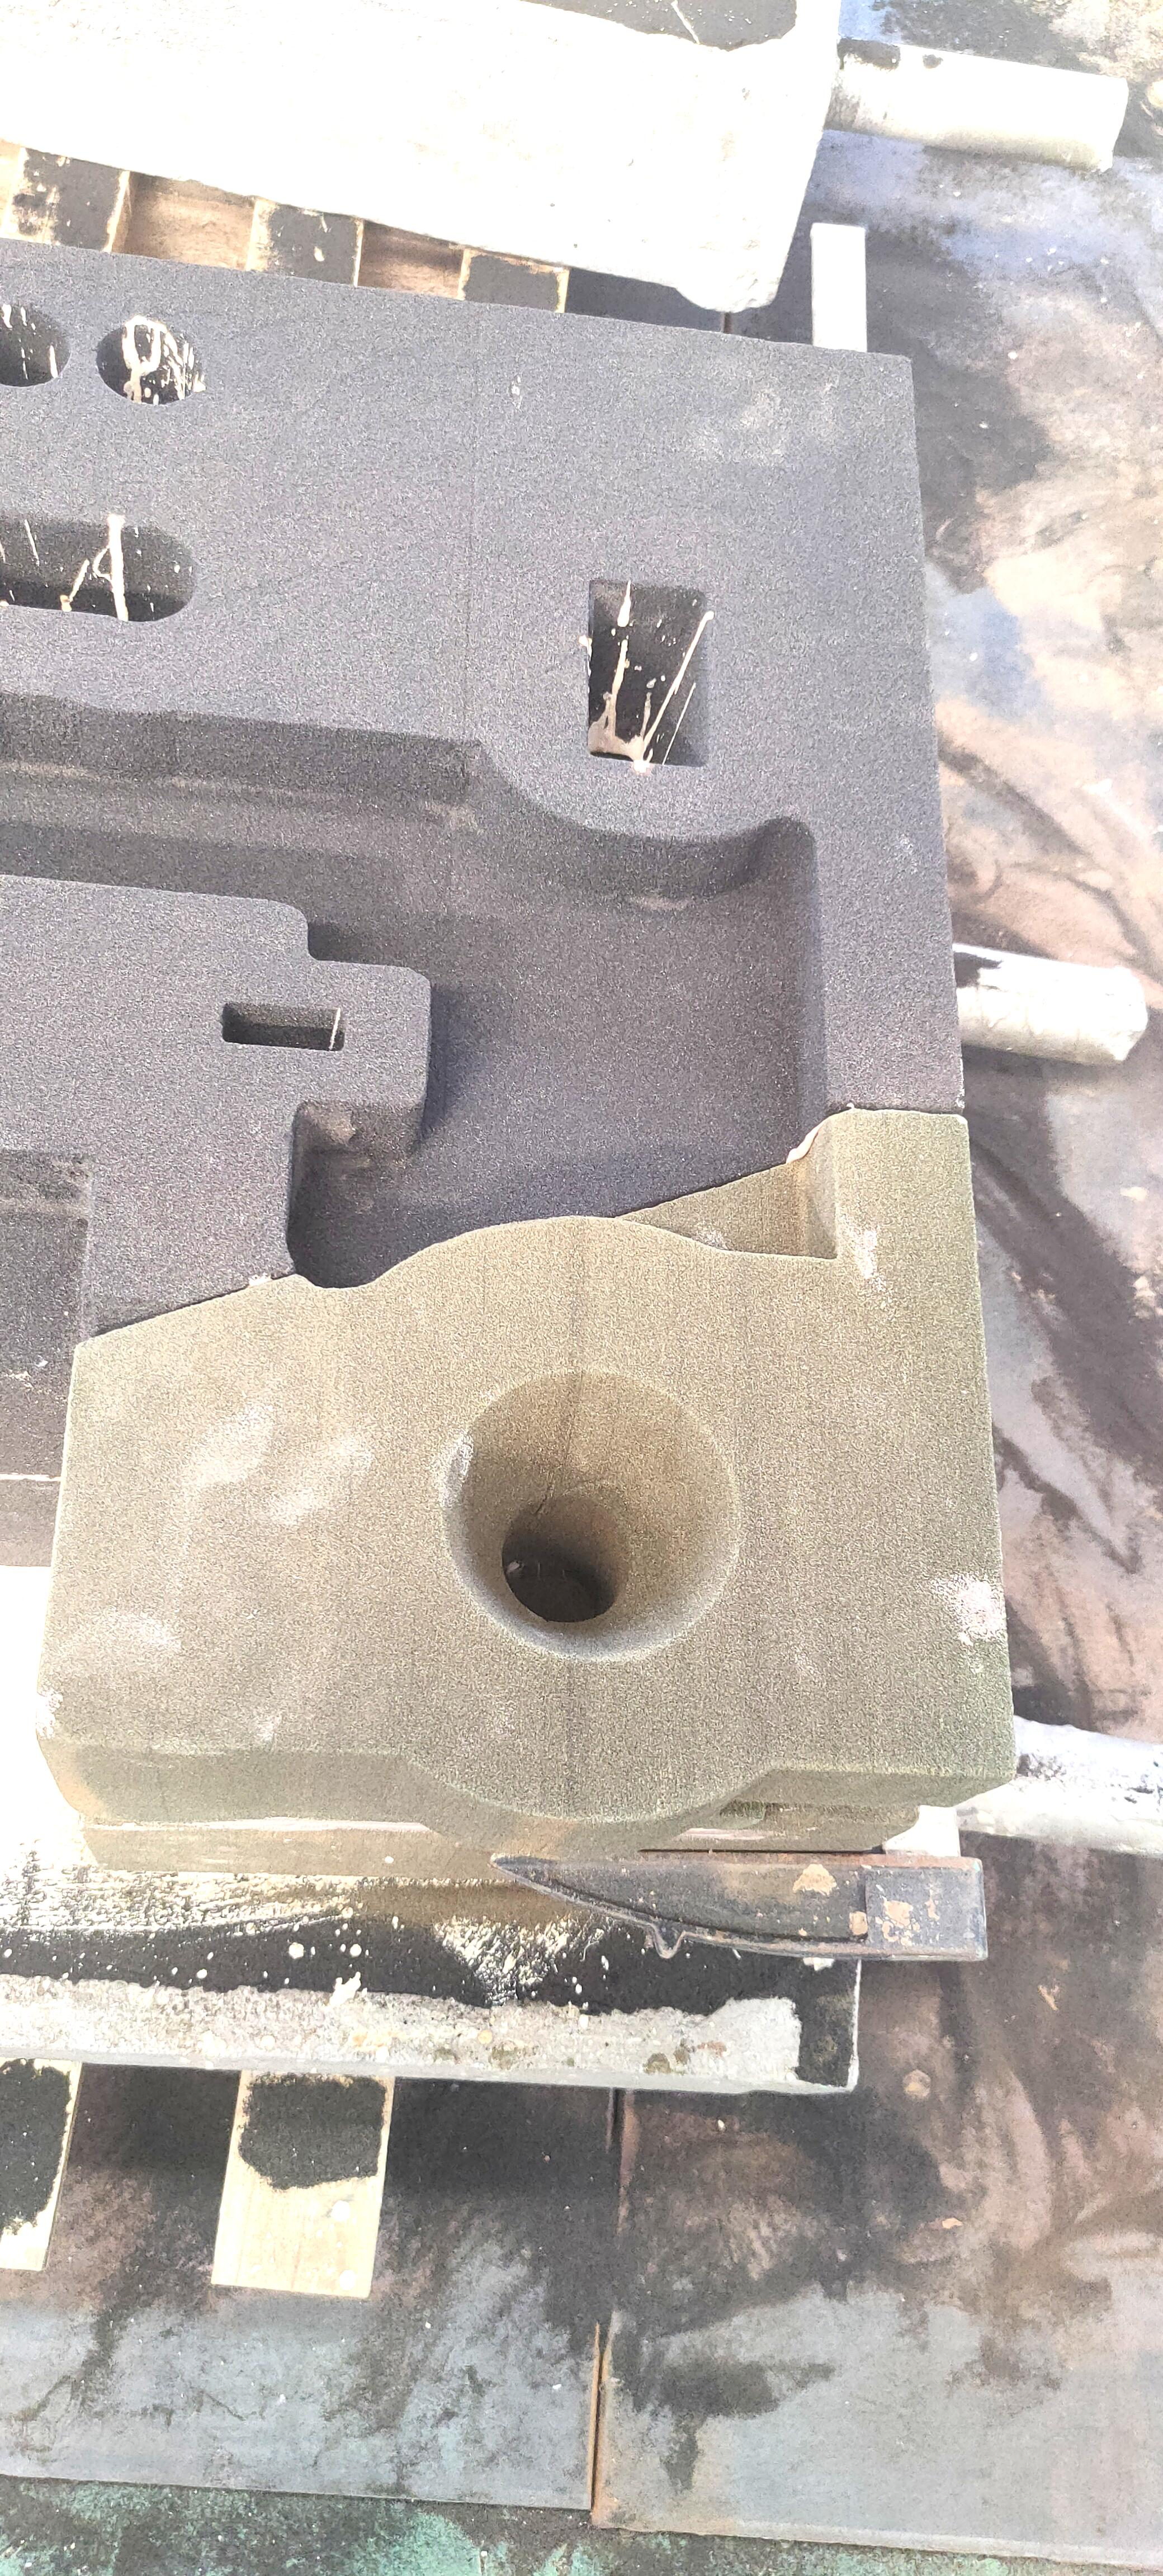pouring hole: (439, 1368, 739, 1663)
